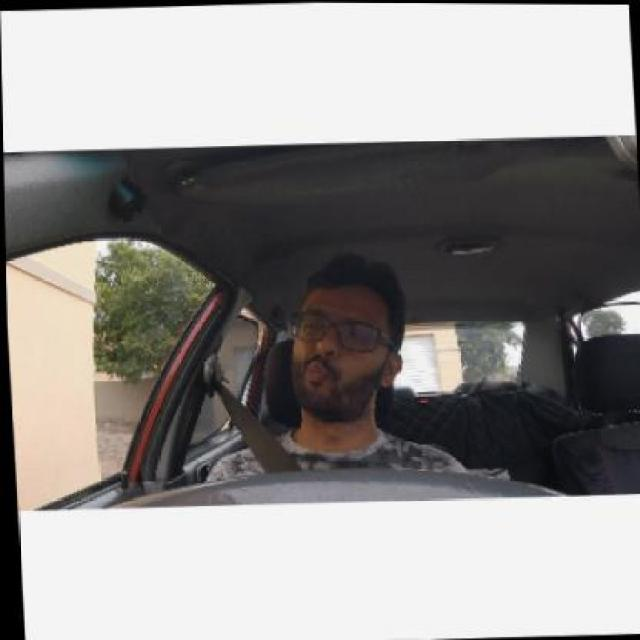drowsy: (286, 246, 405, 428)
